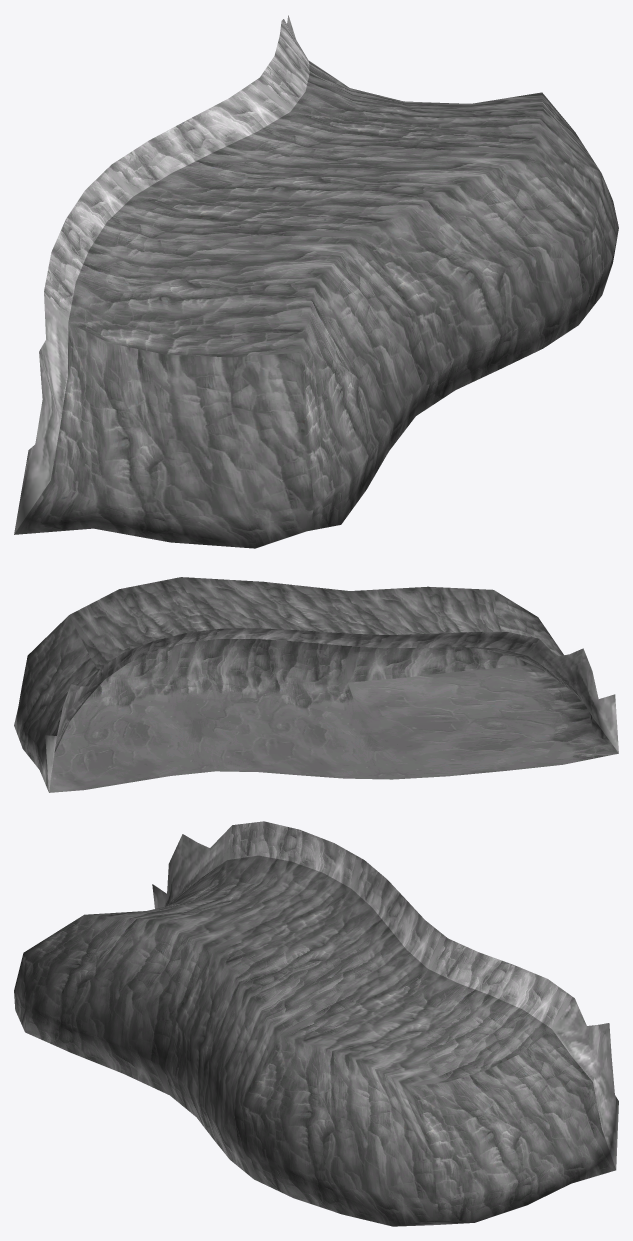
The model's file is SWORDLIGHT20_PS-AREA03_26.fbx.
3 renders of one model, top to bottom at view 1: azimuth 30°, elevation 25°; view 2: azimuth 150°, elevation 25°; view 3: azimuth 270°, elevation 25°, orthographic. The views are drawn at different scales.
Visible parts, largest first — view 1: SWORDLIGHT20_PS-AREA03_26; view 2: SWORDLIGHT20_PS-AREA03_26; view 3: SWORDLIGHT20_PS-AREA03_26.
Boxes of the visible parts, <box> form: SWORDLIGHT20_PS-AREA03_26: <box>14,15,618,548</box>; SWORDLIGHT20_PS-AREA03_26: <box>14,577,618,792</box>; SWORDLIGHT20_PS-AREA03_26: <box>14,821,618,1226</box>.
Size of the model in its own units: 205530 by 59121 by 181808.
Materials: 5 (5 with a texture image).
